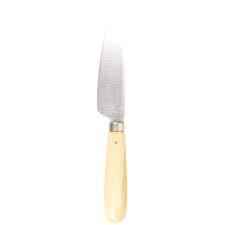Knife: (96, 31, 127, 223)
